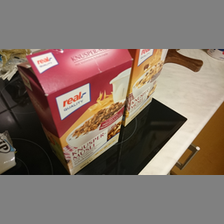cereal: (19, 50, 134, 176)
